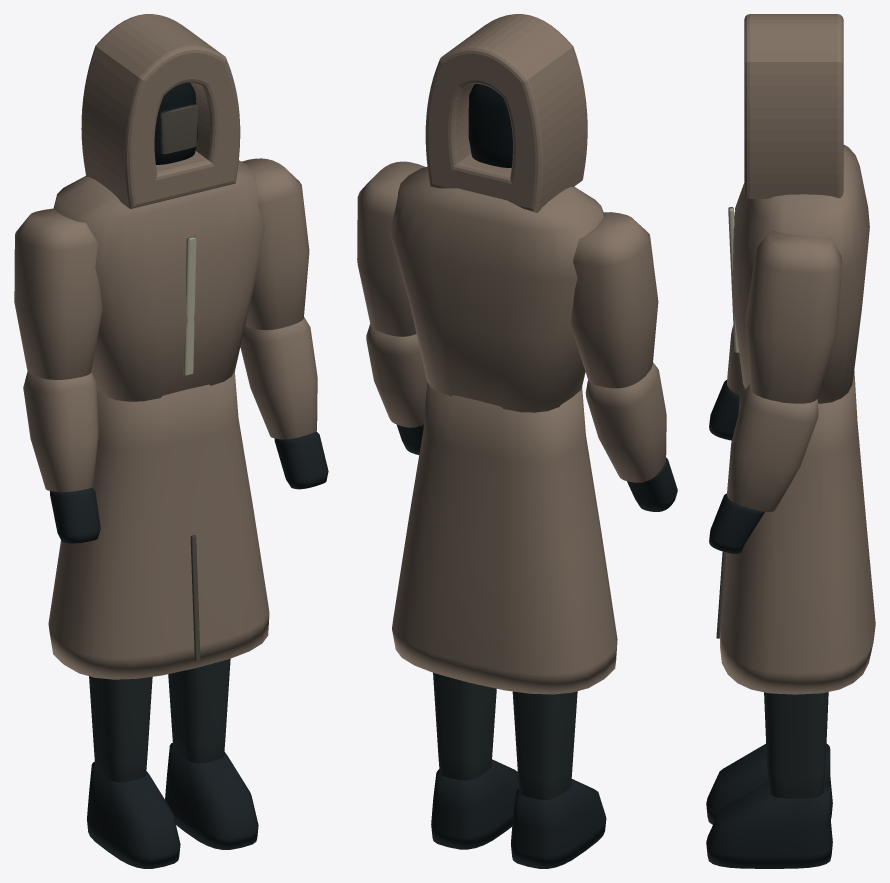
Rendered from enemy-veil.glb.
3 renders of one model, left to right at view 1: azimuth 30°, elevation 25°; view 2: azimuth 150°, elevation 25°; view 3: azimuth 270°, elevation 25°, orthographic. The views are drawn at different scales.
Visible parts, largest first — view 1: Long coat, Mantle, Open hood, Sleeve_L, Sleeve_R, Cuff_L, Cuff_R, Boot_L, Boot_R, ShinSuit_L, ShinSuit_R, Hand_L (+5 smaller); view 2: Long coat, Mantle, Open hood, Sleeve_L, Sleeve_R, Cuff_L, Boot_L, ShinSuit_L, Boot_R, ShinSuit_R, Cuff_R, Shadowed mask (+1 smaller); view 3: Long coat, Open hood, Sleeve_R, Mantle, Boot_R, Cuff_R, ShinSuit_R, Boot_L, Hand_R, Hand_L, Cuff_L, Closure.
Part boxes in pixels (x1=…): Long coat: x1=48, y1=371, x2=269, y2=679; Mantle: x1=53, y1=160, x2=264, y2=401; Open hood: x1=81, y1=14, x2=240, y2=208; Sleeve_L: x1=14, y1=208, x2=102, y2=379; Sleeve_R: x1=242, y1=158, x2=309, y2=330; Cuff_L: x1=23, y1=371, x2=98, y2=492; Cuff_R: x1=240, y1=317, x2=317, y2=439; Boot_L: x1=87, y1=762, x2=180, y2=868; Boot_R: x1=165, y1=742, x2=258, y2=849; ShinSuit_L: x1=89, y1=676, x2=152, y2=782; ShinSuit_R: x1=168, y1=659, x2=230, y2=763; Hand_L: x1=49, y1=487, x2=100, y2=543; Long coat: x1=392, y1=382, x2=617, y2=694; Mantle: x1=389, y1=167, x2=603, y2=412; Open hood: x1=425, y1=14, x2=587, y2=212; Sleeve_L: x1=571, y1=212, x2=658, y2=388; Sleeve_R: x1=357, y1=161, x2=425, y2=336; Cuff_L: x1=585, y1=362, x2=666, y2=482; Boot_L: x1=511, y1=779, x2=606, y2=868; ShinSuit_L: x1=512, y1=691, x2=577, y2=799; Boot_R: x1=431, y1=759, x2=518, y2=849; ShinSuit_R: x1=433, y1=673, x2=496, y2=780; Cuff_R: x1=366, y1=324, x2=427, y2=427; Shadowed mask: x1=468, y1=84, x2=512, y2=167; Long coat: x1=720, y1=370, x2=875, y2=694; Open hood: x1=744, y1=14, x2=843, y2=198; Sleeve_R: x1=745, y1=230, x2=842, y2=403; Mantle: x1=732, y1=145, x2=869, y2=403; Boot_R: x1=706, y1=782, x2=832, y2=868; Cuff_R: x1=727, y1=384, x2=818, y2=511; ShinSuit_R: x1=764, y1=692, x2=828, y2=798; Boot_L: x1=706, y1=744, x2=832, y2=824; Hand_R: x1=709, y1=493, x2=764, y2=553; Hand_L: x1=709, y1=380, x2=739, y2=440; Cuff_L: x1=727, y1=325, x2=741, y2=394; Closure: x1=728, y1=207, x2=738, y2=352.
Bounding box in the file's own units: 0.672 × 1.85 × 0.348.
